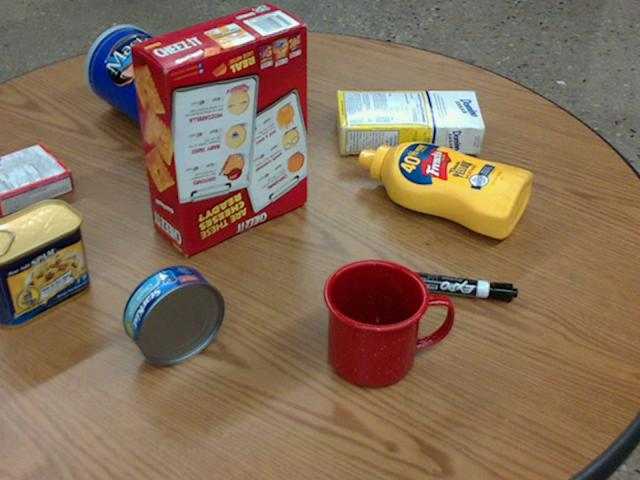cracker_box: (129, 6, 307, 256)
gelatin_box: (0, 144, 74, 217)
large_marker: (395, 269, 517, 301)
master_chef_can: (83, 26, 220, 146)
mug: (324, 258, 452, 388)
mustard_bottle: (357, 142, 532, 237)
potted_meat_can: (0, 200, 89, 329)
sugar_box: (336, 89, 486, 154)
tomato_soup_can: (251, 17, 304, 112)
tuna_fish_can: (123, 265, 224, 364)
